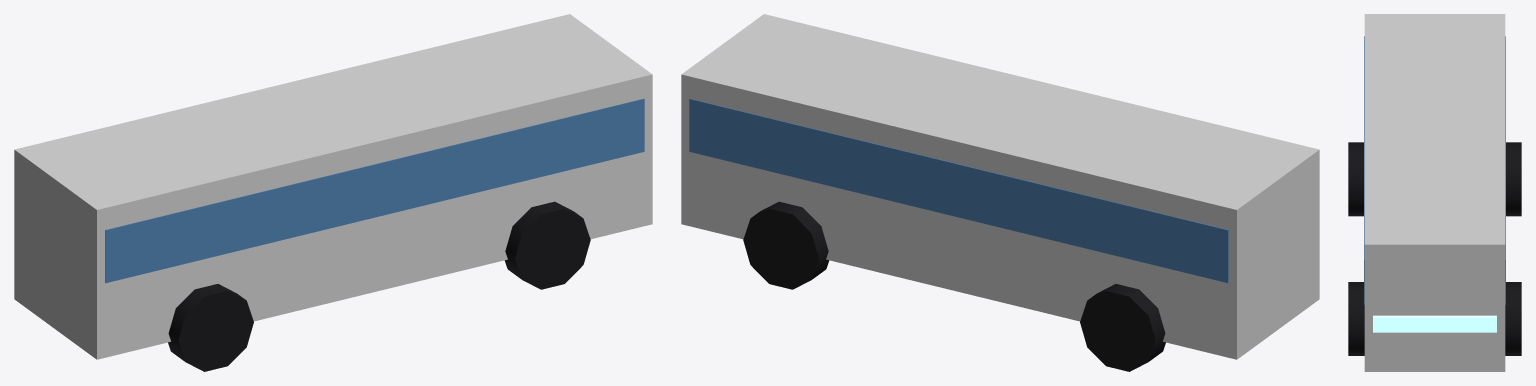
The model's file is bus_2024.glb.
The picture shows the model from 3 angles, left to right: view 1: azimuth 30°, elevation 25°; view 2: azimuth 150°, elevation 25°; view 3: azimuth 270°, elevation 25°; orthographic projection. The views are drawn at different scales.
Visible parts, largest first — view 1: Body, Windows, bus_w1_1, bus_w0_1; view 2: Body, Windows, bus_w1_-1, bus_w0_-1; view 3: Body, Glow, bus_w1_-1, bus_w1_1, bus_w0_-1, bus_w0_1, Windows.
Part boxes in pixels (<box>): Body: <box>14,14,652,359</box>; Windows: <box>105,98,644,282</box>; bus_w1_1: <box>504,201,590,289</box>; bus_w0_1: <box>168,284,253,371</box>; Body: <box>681,14,1319,359</box>; Windows: <box>689,98,1228,282</box>; bus_w1_-1: <box>743,201,829,289</box>; bus_w0_-1: <box>1080,284,1165,371</box>; Body: <box>1364,14,1505,371</box>; Glow: <box>1373,315,1496,332</box>; bus_w1_-1: <box>1505,282,1521,355</box>; bus_w1_1: <box>1348,282,1364,355</box>; bus_w0_-1: <box>1506,142,1521,216</box>; bus_w0_1: <box>1348,142,1363,216</box>; Windows: <box>1364,36,1505,304</box>.
Size of the model in its own units: 0.665 by 0.2028 by 0.21.
